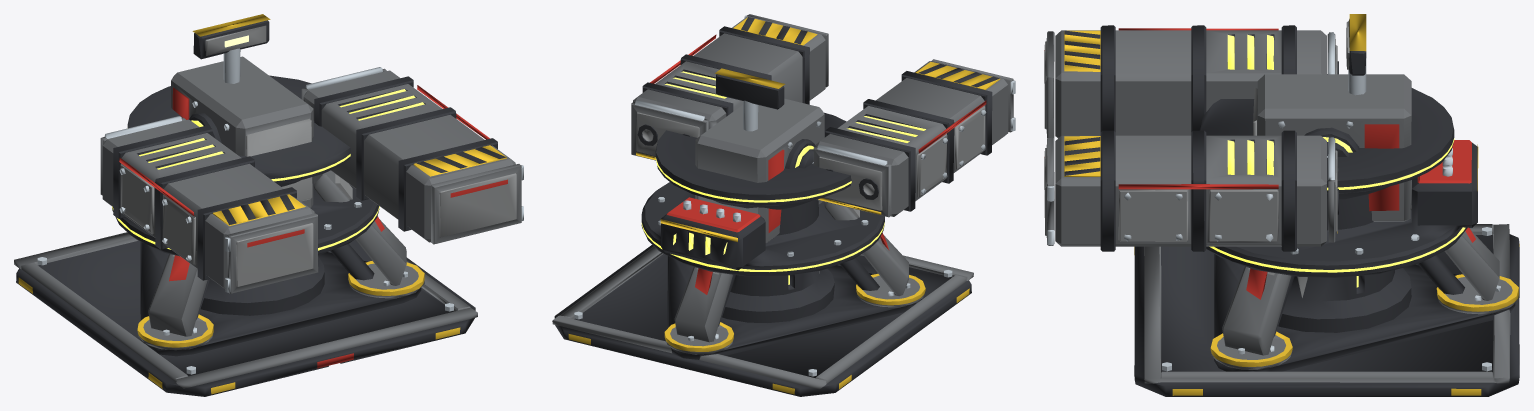
File: R4W_RocketLauncher_LOD1.fbx
The picture shows the model from 3 angles, left to right: view 1: azimuth 30°, elevation 25°; view 2: azimuth 150°, elevation 25°; view 3: azimuth 270°, elevation 25°; orthographic projection. The views are drawn at different scales.
Visible parts, largest first — view 1: R4W_RocketLauncher_Base_LOD1, R4W_RocketLauncher_Pitch_LOD1, R4W_RocketLauncher_Yaw_LOD1, R4W_RocketLauncher_Hatch_L_LOD1, R4W_RocketLauncher_Hatch_R_LOD1, R4W_RocketLauncher_RearCover_L_LOD1, R4W_RocketLauncher_RearCover_R_LOD1; view 2: R4W_RocketLauncher_Base_LOD1, R4W_RocketLauncher_Pitch_LOD1, R4W_RocketLauncher_Yaw_LOD1, R4W_RocketLauncher_RearCover_L_LOD1, R4W_RocketLauncher_RearCover_R_LOD1, R4W_RocketLauncher_Hatch_L_LOD1, R4W_RocketLauncher_Hatch_R_LOD1; view 3: R4W_RocketLauncher_Base_LOD1, R4W_RocketLauncher_Pitch_LOD1, R4W_RocketLauncher_Yaw_LOD1, R4W_RocketLauncher_Hatch_L_LOD1, R4W_RocketLauncher_Hatch_R_LOD1, R4W_RocketLauncher_RearCover_R_LOD1, R4W_RocketLauncher_RearCover_L_LOD1.
Part boxes in pixels (x1,y1,x2,y2): R4W_RocketLauncher_Base_LOD1: (14,75,477,396); R4W_RocketLauncher_Pitch_LOD1: (102,70,515,288); R4W_RocketLauncher_Yaw_LOD1: (112,14,379,256); R4W_RocketLauncher_Hatch_L_LOD1: (225,213,318,293); R4W_RocketLauncher_Hatch_R_LOD1: (431,164,523,244); R4W_RocketLauncher_RearCover_L_LOD1: (100,116,185,195); R4W_RocketLauncher_RearCover_R_LOD1: (301,67,386,100); R4W_RocketLauncher_Base_LOD1: (552,112,973,396); R4W_RocketLauncher_Pitch_LOD1: (633,16,1008,216); R4W_RocketLauncher_Yaw_LOD1: (641,68,884,276); R4W_RocketLauncher_RearCover_L_LOD1: (813,144,891,217); R4W_RocketLauncher_RearCover_R_LOD1: (631,100,708,160); R4W_RocketLauncher_Hatch_L_LOD1: (931,59,1015,132); R4W_RocketLauncher_Hatch_R_LOD1: (744,14,828,87); R4W_RocketLauncher_Base_LOD1: (1134,74,1519,396); R4W_RocketLauncher_Pitch_LOD1: (1055,25,1349,251); R4W_RocketLauncher_Yaw_LOD1: (1206,14,1478,277); R4W_RocketLauncher_Hatch_L_LOD1: (1044,31,1054,138); R4W_RocketLauncher_Hatch_R_LOD1: (1044,137,1054,245); R4W_RocketLauncher_RearCover_R_LOD1: (1328,137,1338,242); R4W_RocketLauncher_RearCover_L_LOD1: (1327,32,1338,74).
Bounding box in the file's own units: 0.5108 × 0.4152 × 0.6301.
